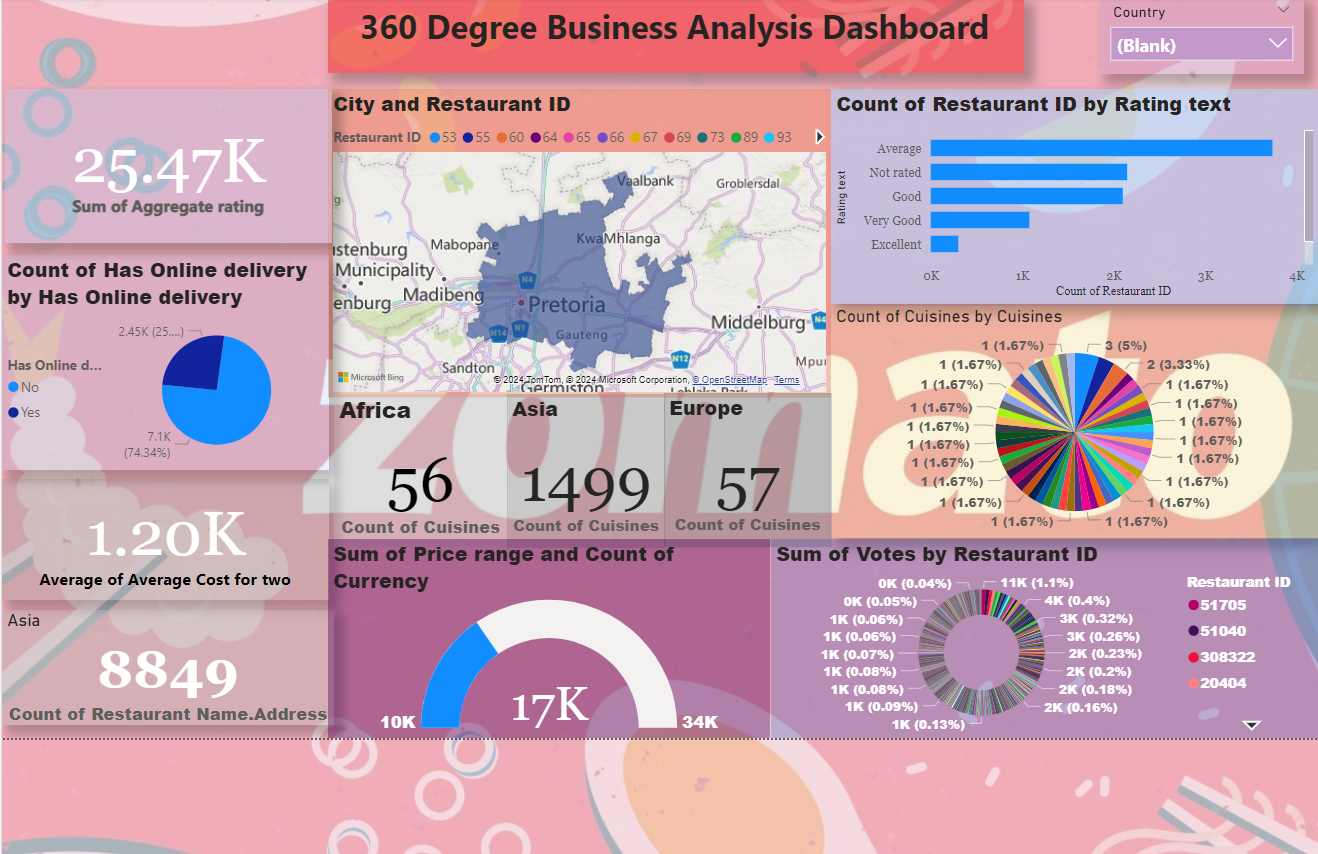

Layout of this report page (visuals, bound fields, positions):
{"tool":"powerbi","page":{"name":"Page 1","canvas":[1280,720],"ordinal":0},"visuals":[{"type":"slicer","fields":{"Values":["Country Master.Country"]},"box":[1067.5,0,197.5,73.8],"z":0},{"type":"clusteredBarChart","fields":{"Category":["KPIs.Rating text"],"Y":["CountNonNull(KPIs.Restaurant ID)"]},"box":[806.2,88.8,473.8,208.8],"z":1000},{"type":"filledMap","fields":{"Series":["KPIs.Restaurant ID"],"Category":["Zomato Africa.City","Zomato Asia.City","Zomato Europe.City","Zomato NAM.City","Zomato Oceania.City","Zomato SAM.City","Country Master.Country"]},"box":[317.5,88.8,488.8,300],"z":2000},{"type":"pieChart","fields":{"Category":["Zomato Africa.Cuisines"],"Y":["CountNonNull(Zomato Africa.Cuisines)"]},"box":[806.2,300,473.8,226.2],"z":3000},{"type":"card","fields":{"Values":["Avg(KPIs.Average Cost for two)"]},"box":[0,467.5,317.5,117.5],"z":4000},{"type":"card","fields":{"Values":["Sum(KPIs.Aggregate rating)"]},"box":[2.5,88.8,317.5,150],"z":5000},{"type":"pieChart","fields":{"Y":["CountNonNull(KPIs.Has Online delivery)"],"Category":["KPIs.Has Online delivery"]},"box":[0,250,317.5,208.8],"z":6000},{"type":"textbox","title":"360 Degree Business Analysis Dashboard ","box":[317,0,677,73],"z":7000},{"type":"card","title":"Asia","fields":{"Values":["Count(Zomato Asia.Restaurant Name,Address)"]},"box":[0,595,323,112],"z":7001},{"type":"card","title":"Africa","fields":{"Values":["Count(Zomato Africa.Cuisines)"]},"box":[322.5,385,168.8,148.8],"z":7002},{"type":"card","title":"Asia","fields":{"Values":["Count(Zomato Asia.Cuisines)"]},"box":[491.2,385,153.8,150],"z":7003},{"type":"card","title":"Europe","fields":{"Values":["Count(Zomato Europe.Cuisines)"]},"box":[643.8,383.8,162.5,150],"z":7004},{"type":"gauge","fields":{"Y":["Sum(KPIs.Price range)"],"MinValue":["CountNonNull(KPIs.Currency)"]},"box":[317.3,526.4,430,193.6],"z":7005},{"type":"donutChart","fields":{"Y":["Sum(KPIs.Votes)"],"Category":["KPIs.Restaurant ID"]},"box":[747.5,526.2,532.5,193.8],"z":7006}]}

Visuals, with their boxes on the page's 1280x720 design canvas (x1, y1, x2, y2). These are canvas units, not pixel positions in the 1318x854 screenshot, which may show the page scaled, cropped or inside an application window:
slicer - Country Master.Country: left=1068, top=0, right=1265, bottom=74
clusteredBarChart - KPIs.Rating text x CountNonNull(KPIs.Restaurant ID): left=806, top=89, right=1280, bottom=298
filledMap - KPIs.Restaurant ID x Zomato Africa.City: left=318, top=89, right=806, bottom=389
pieChart - Zomato Africa.Cuisines x CountNonNull(Zomato Africa.Cuisines): left=806, top=300, right=1280, bottom=526
card - Avg(KPIs.Average Cost for two): left=0, top=468, right=318, bottom=585
card - Sum(KPIs.Aggregate rating): left=2, top=89, right=320, bottom=239
pieChart - CountNonNull(KPIs.Has Online delivery) x KPIs.Has Online delivery: left=0, top=250, right=318, bottom=459
"360 Degree Business Analysis Dashboard " textbox: left=317, top=0, right=994, bottom=73
"Asia" card: left=0, top=595, right=323, bottom=707
"Africa" card: left=322, top=385, right=491, bottom=534
"Asia" card: left=491, top=385, right=645, bottom=535
"Europe" card: left=644, top=384, right=806, bottom=534
gauge - Sum(KPIs.Price range) x CountNonNull(KPIs.Currency): left=317, top=526, right=747, bottom=720
donutChart - Sum(KPIs.Votes) x KPIs.Restaurant ID: left=748, top=526, right=1280, bottom=720
